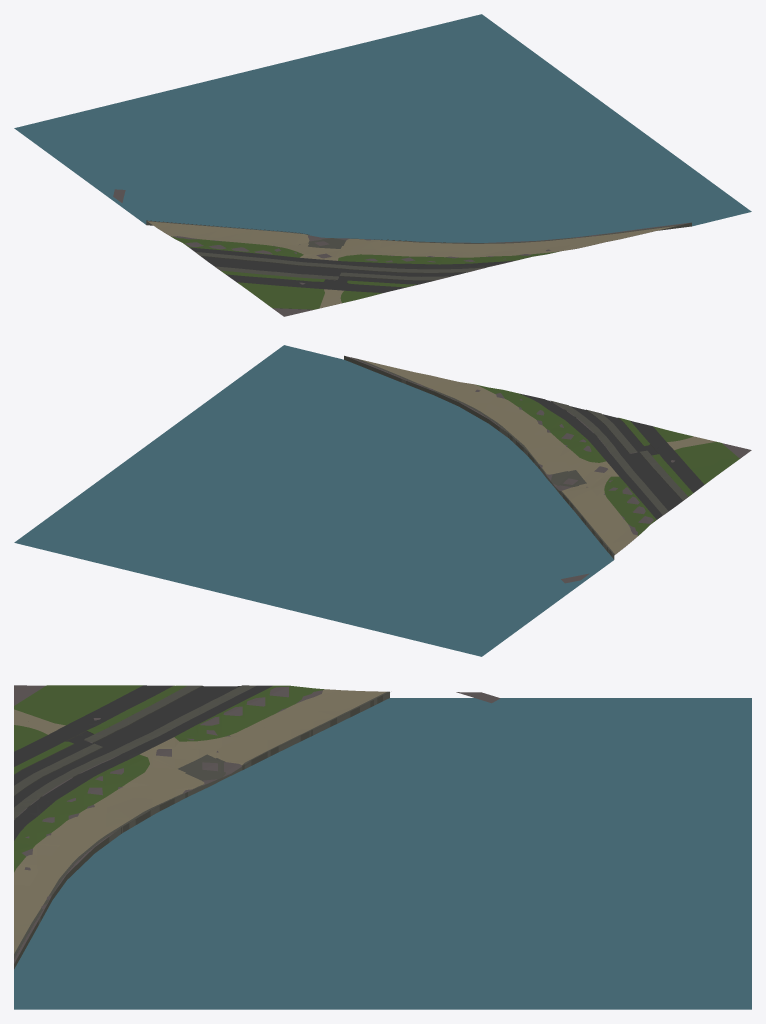
3 views of the same model, one above another, from view 1: azimuth 30°, elevation 25°; view 2: azimuth 150°, elevation 25°; view 3: azimuth 270°, elevation 25° (orthographic). The views are drawn at different scales.
Visible parts, largest first — view 1: c_m04_m07; view 2: c_m04_m07; view 3: c_m04_m07.
Part boxes in pixels (bbox=[...]): c_m04_m07: bbox=[14, 14, 751, 316]; c_m04_m07: bbox=[14, 345, 751, 656]; c_m04_m07: bbox=[14, 685, 751, 1009].
Bounding box in the file's own units: 128 × 2.47 × 128.
